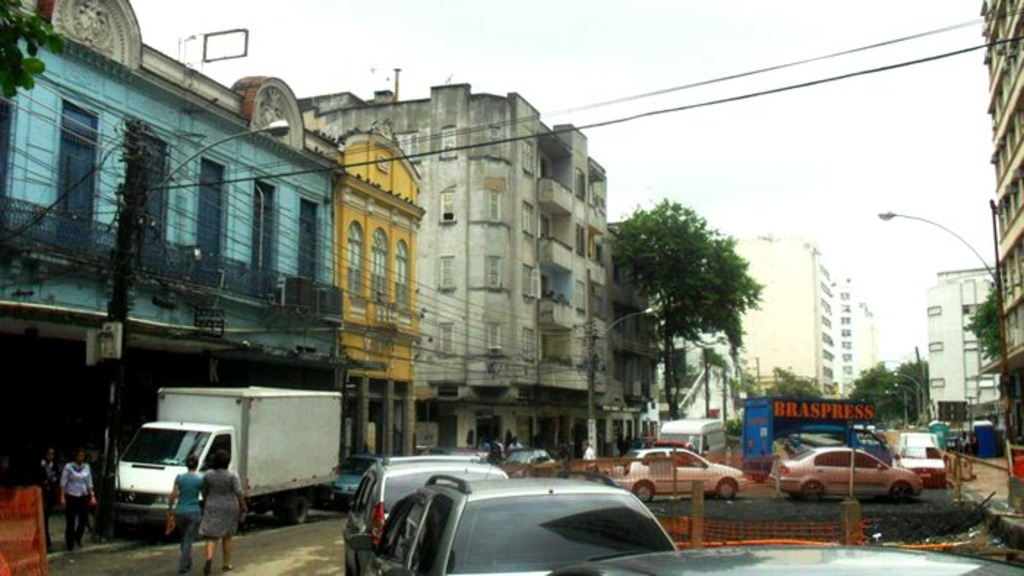Car: (314, 438, 925, 574)
